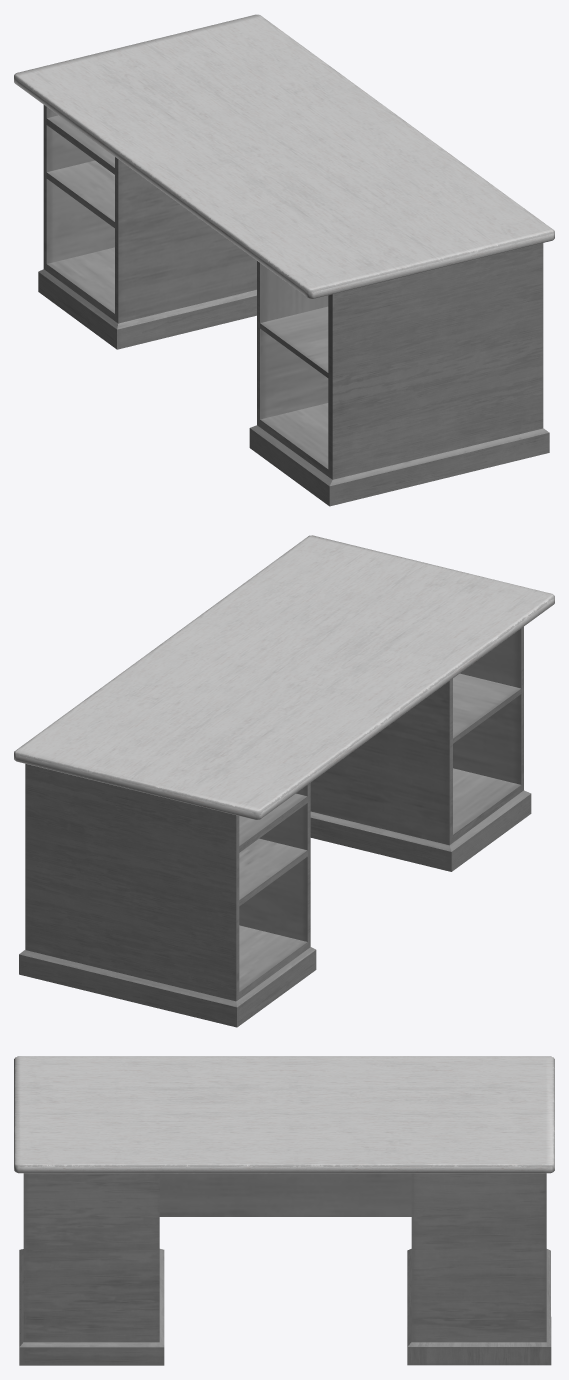
The model's file is SM_WorkingTable_A1.fbx.
3 renders of one model, top to bottom at view 1: azimuth 30°, elevation 25°; view 2: azimuth 150°, elevation 25°; view 3: azimuth 270°, elevation 25°, orthographic. The views are drawn at different scales.
Visible parts, largest first — view 1: SM_WorkingTable_A1; view 2: SM_WorkingTable_A1; view 3: SM_WorkingTable_A1.
Part boxes in pixels (x1,y1,x2,y2): SM_WorkingTable_A1: (14, 14, 554, 506); SM_WorkingTable_A1: (14, 535, 554, 1027); SM_WorkingTable_A1: (14, 1056, 554, 1365).
Size of the model in its own units: 90.89 by 190 by 78.17.
1 material, 1 textured.
